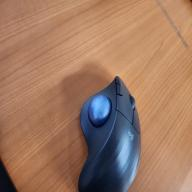mouse: (80, 75, 142, 192)
